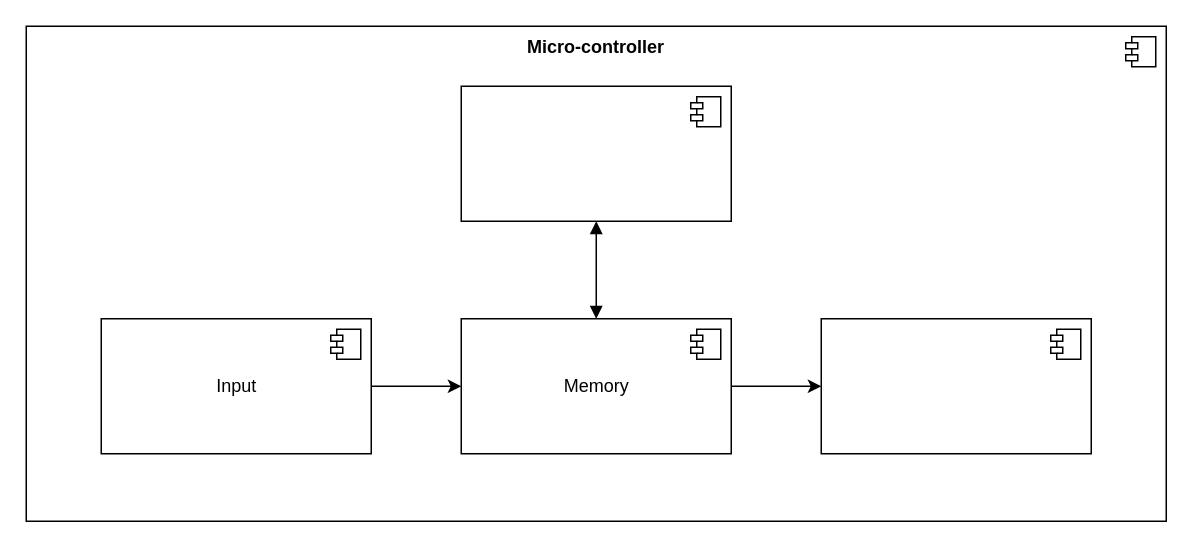
This 1193x548 diagram has some shape labels left out. Here are the shapes that lost their labels. From the top down, the centre of each, then its label:
the point at 595,153: CPU
the point at 955,385: Output
